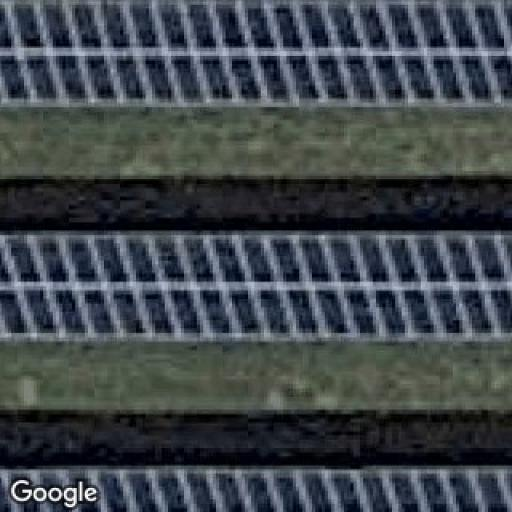solar-panel: (0, 234, 512, 346), (0, 0, 512, 102), (1, 469, 512, 512)
